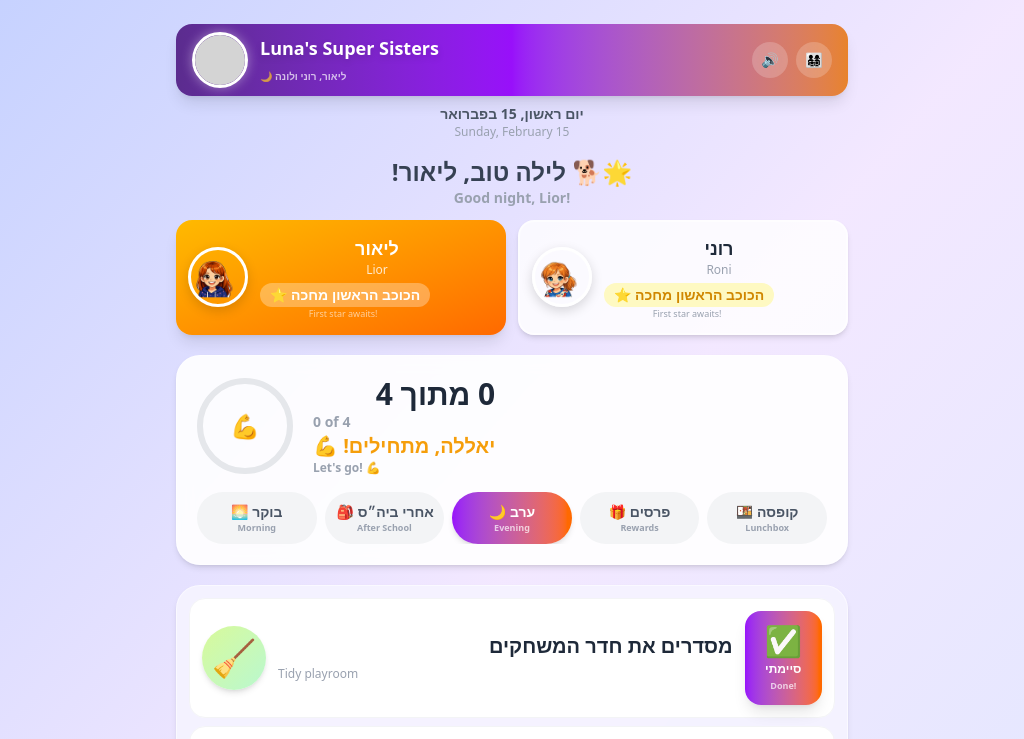
Scenario: App › opens PIN modal when parent button clicked while locked
Step 1. Click the button titled "הורים" → (814, 60), box [796, 42, 832, 78]
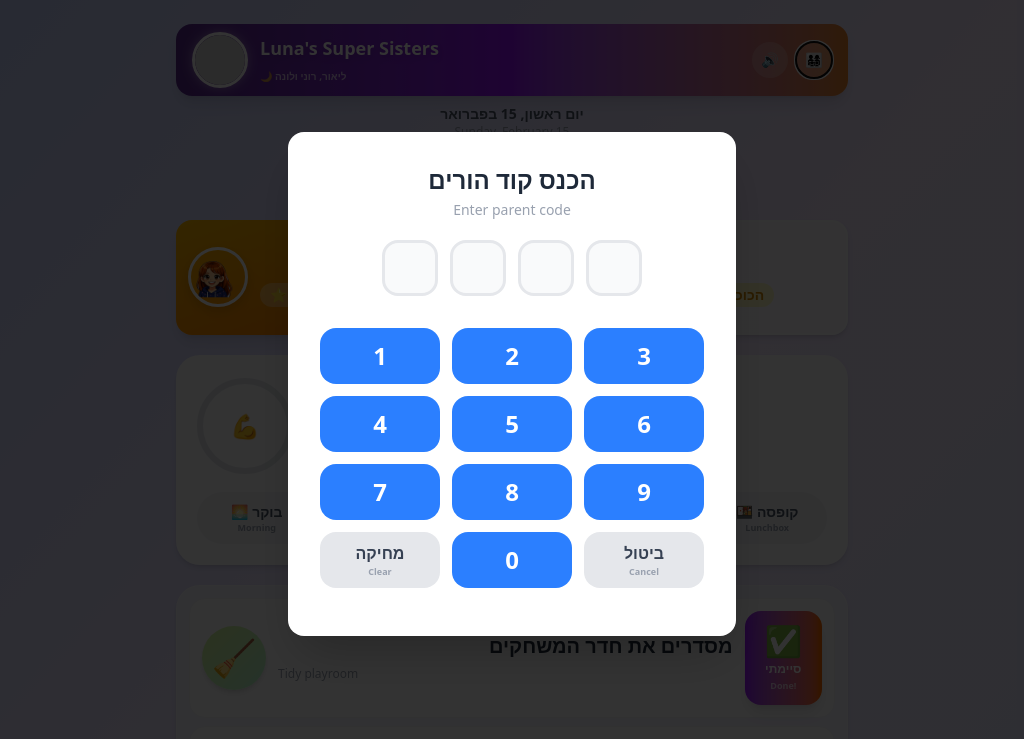
Expected: the heading "הכנס קוד הורים" is shown, [428, 163, 596, 196]
